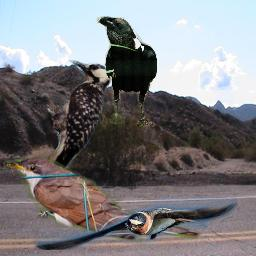Crow: (96, 16, 157, 127)
Cuckoo: (3, 152, 204, 250)
Swallow: (34, 197, 237, 250)
Woodpecker: (38, 59, 120, 190)
